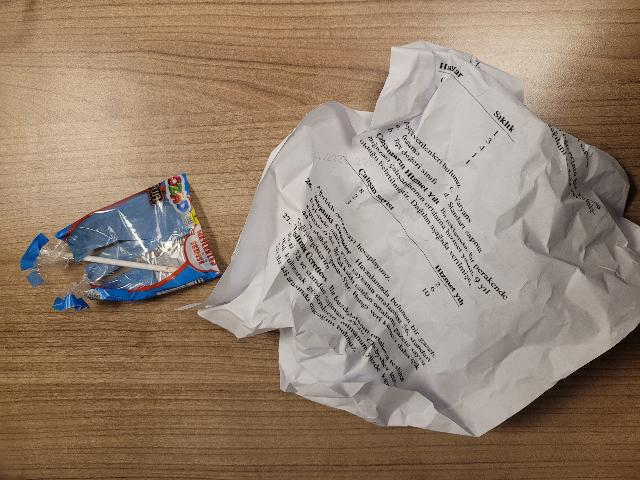Kagit: (225, 46, 640, 438)
Plastik: (10, 171, 227, 320)
